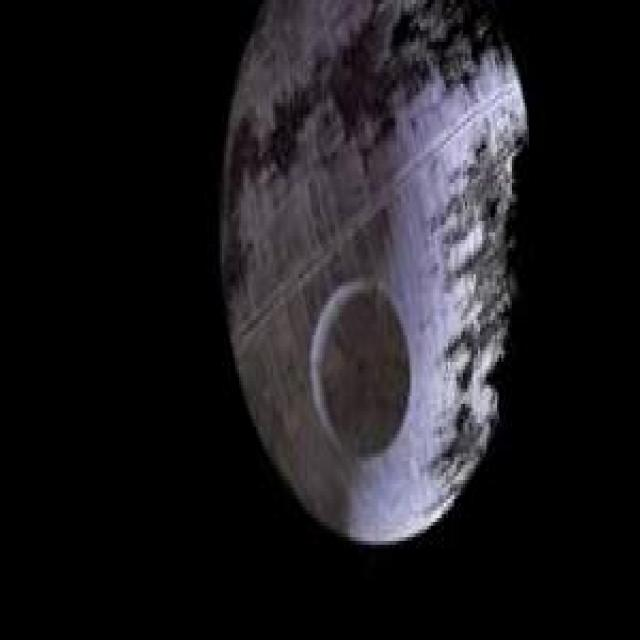deathstar: (216, 0, 532, 546)
